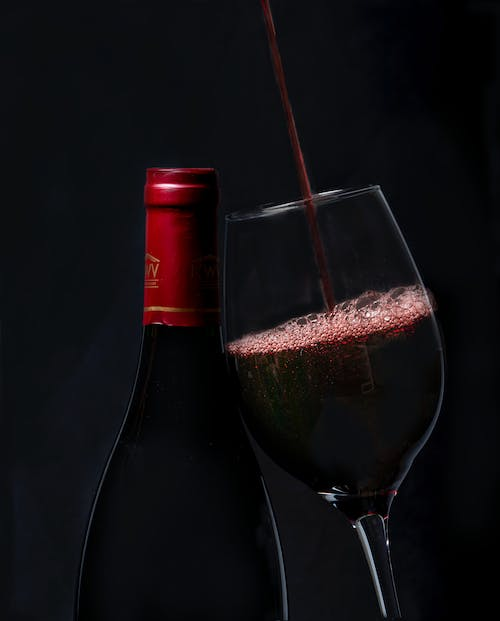alcohol: (220, 180, 448, 621), (72, 164, 289, 621)
